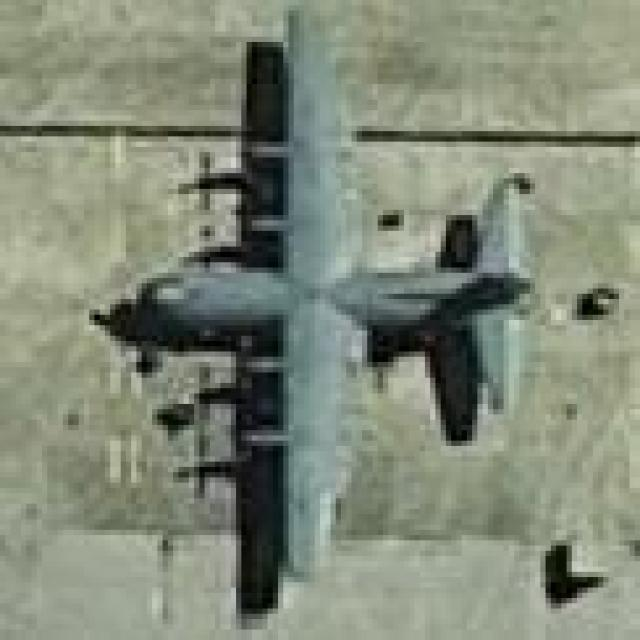C-130_TopDown: (87, 6, 534, 615)
